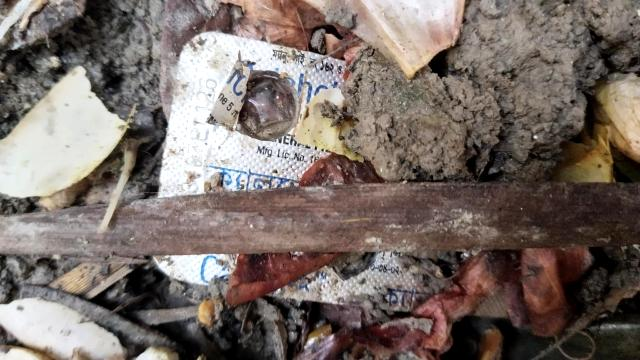medicine: (147, 35, 474, 317)
